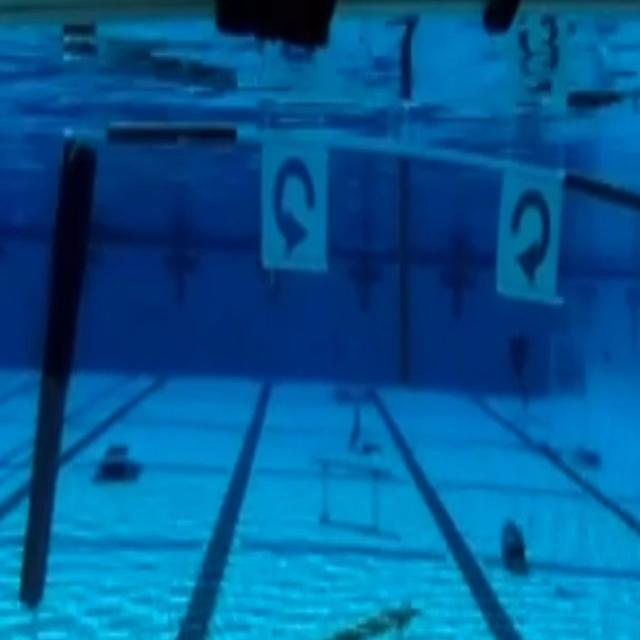Gate: (11, 116, 640, 640)
